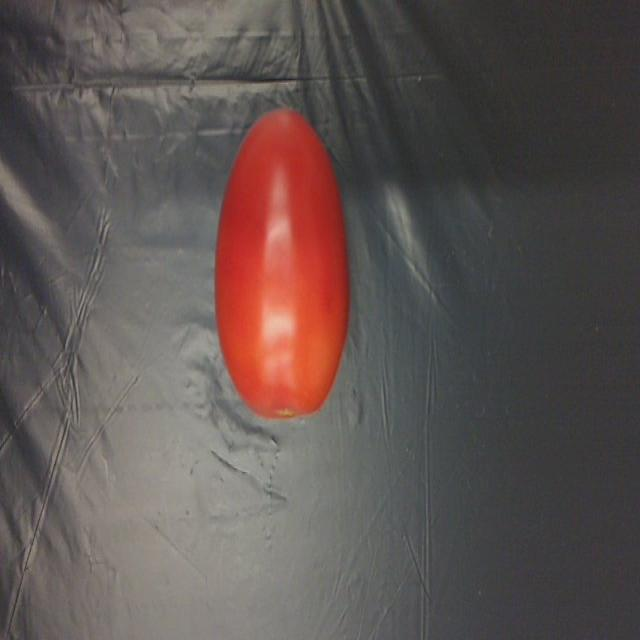kirmizi: (207, 97, 360, 431)
